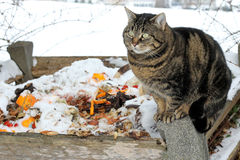cat: (116, 5, 231, 135)
